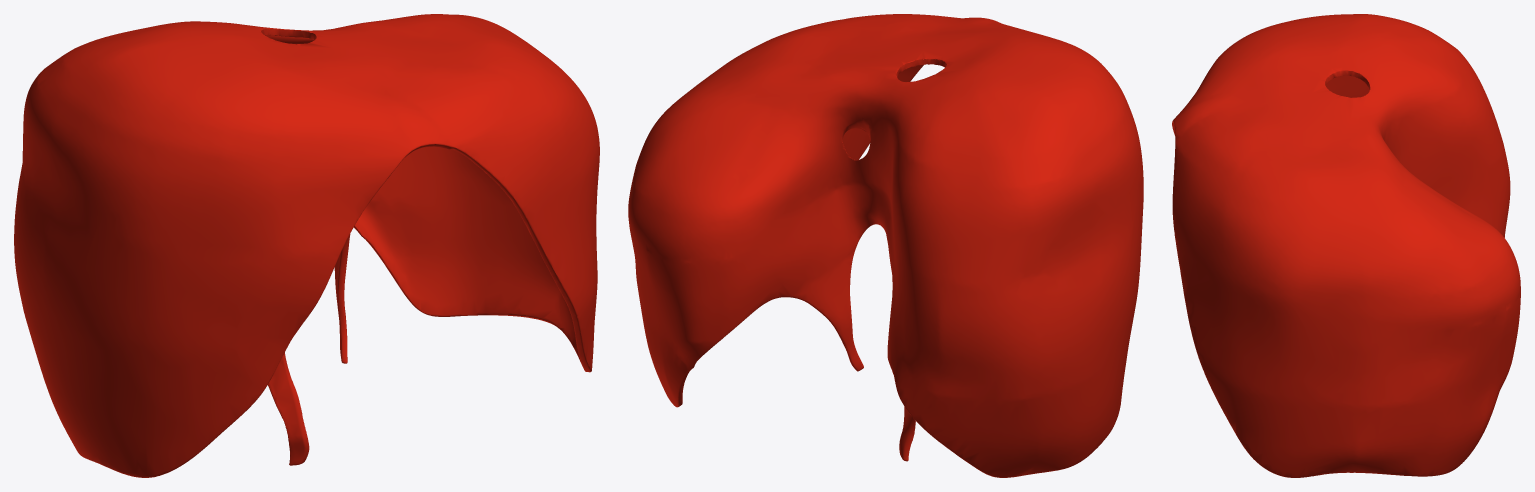
File: diafragma.glb
3 views of the same model, side by side, from view 1: azimuth 30°, elevation 25°; view 2: azimuth 150°, elevation 25°; view 3: azimuth 270°, elevation 25° (orthographic). The views are drawn at different scales.
Parts seen in each view (by area): view 1: FJ3131_BP9976_FMA13295_Diaphragm; view 2: FJ3131_BP9976_FMA13295_Diaphragm; view 3: FJ3131_BP9976_FMA13295_Diaphragm.
Part boxes in pixels (x1,y1,x2,y2): FJ3131_BP9976_FMA13295_Diaphragm: (14,14,599,477); FJ3131_BP9976_FMA13295_Diaphragm: (628,14,1143,477); FJ3131_BP9976_FMA13295_Diaphragm: (1172,14,1520,477).
Bounding box in the file's own units: 0.2432 × 0.2067 × 0.1794.
